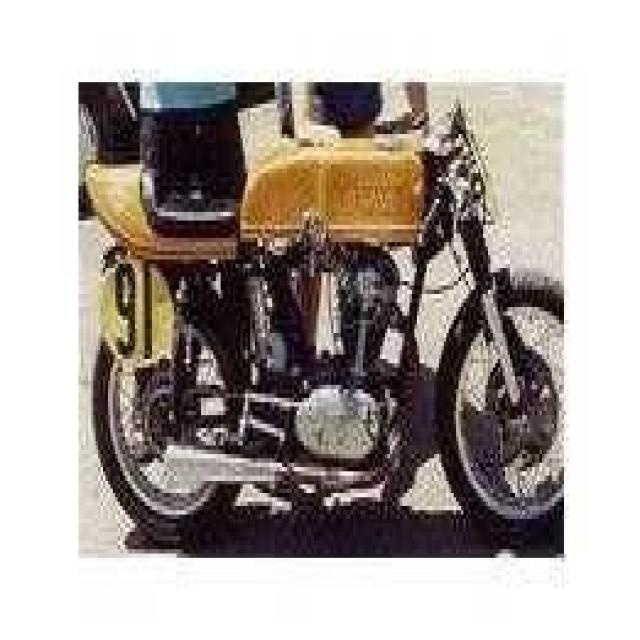Motorcycle: (81, 99, 564, 560)
